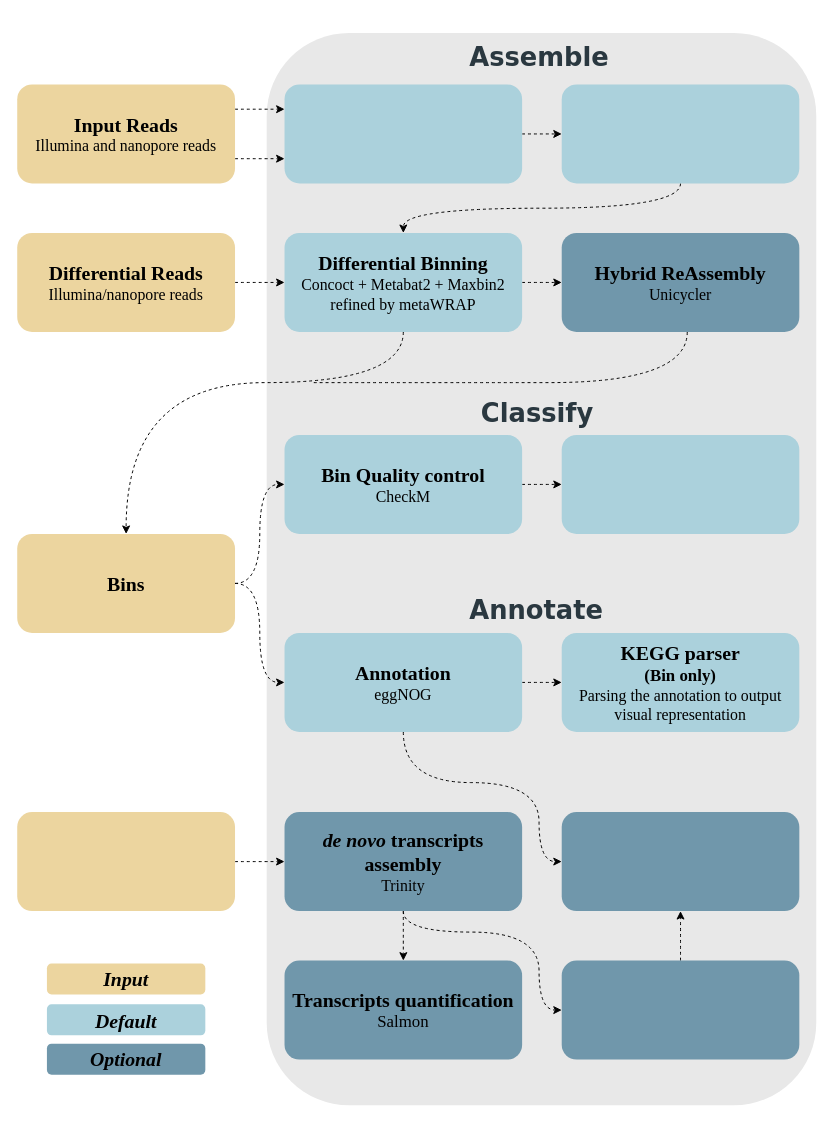
Some shapes in this 834 by 1123 pixel diagram are drawn without their labels. Here are the shapes that lost their labels. From the top down, the centre of each, then its label:
At (403,133): "Quality control Fastp + Filtlong".
At (680,133): "Hybrid Assembly Spades or Flye with polishing".
At (680,483): "Taxonomic classification Sourmash with the GTDB".
At (126,861): "RNA-Seq Illumina Data".
At (680,861): "KEGG parser Parsing the annotation to output visual representation".
At (680,1009): "Transcripts annotation eggNOG".
